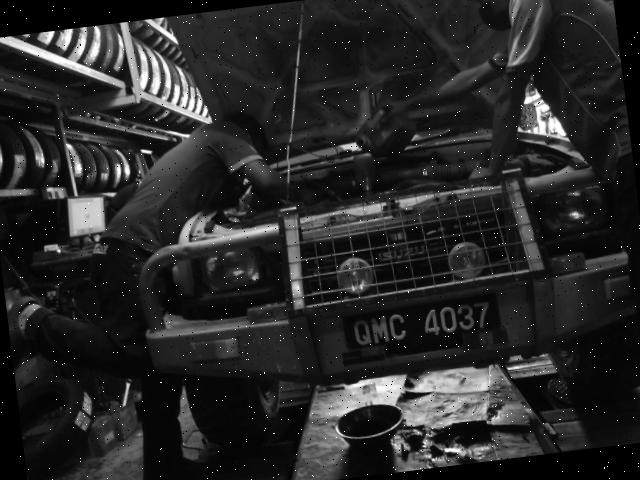License_Plate: (342, 296, 497, 355)
